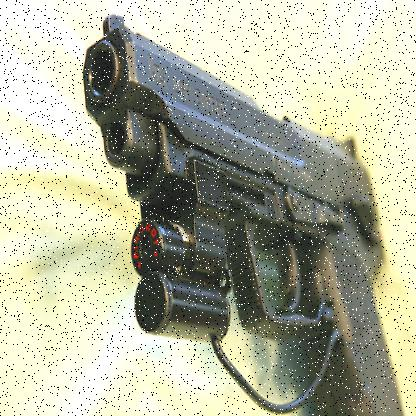pistol: (82, 14, 403, 414)
